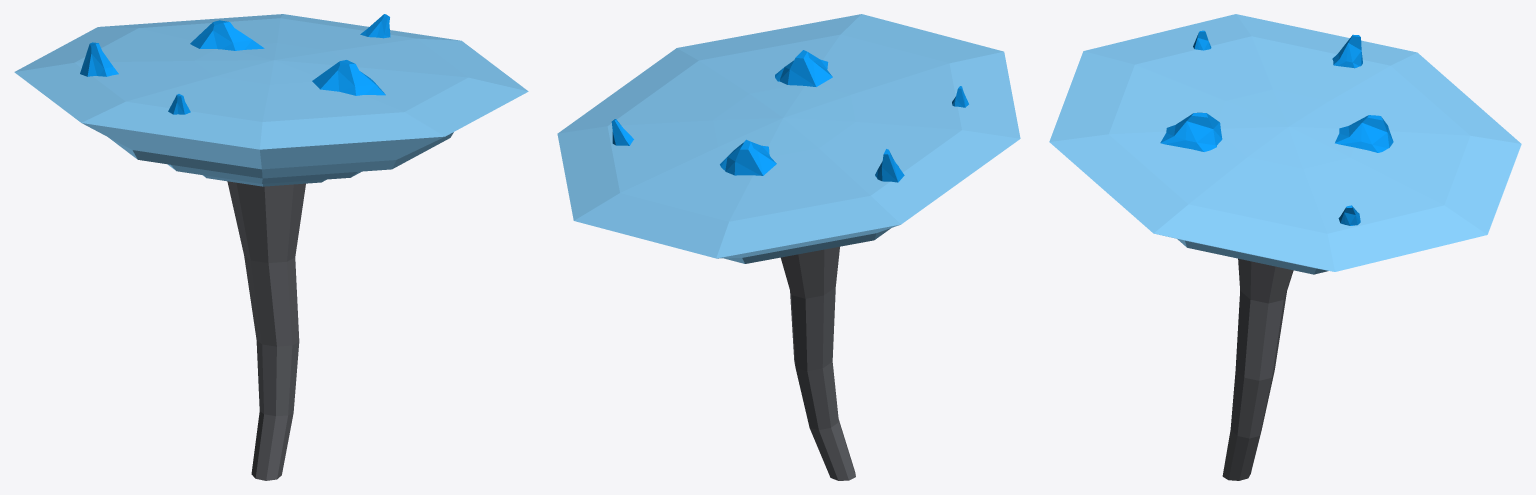
Rendered from crystal mushroom.fbx.
3 renders of one model, left to right at view 1: azimuth 30°, elevation 25°; view 2: azimuth 150°, elevation 25°; view 3: azimuth 270°, elevation 25°, orthographic. The views are drawn at different scales.
Visible parts, largest first — view 1: SP_Tree02, Crystal; view 2: SP_Tree02, Crystal; view 3: SP_Tree02, Crystal.
Part boxes in pixels (x1,y1,x2,y2): SP_Tree02: (14, 14, 528, 480); Crystal: (80, 14, 390, 114); SP_Tree02: (557, 14, 1020, 480); Crystal: (611, 50, 968, 182); SP_Tree02: (1049, 14, 1521, 480); Crystal: (1160, 30, 1393, 225).
Bounding box in the file's own units: 381 × 352 × 381.
